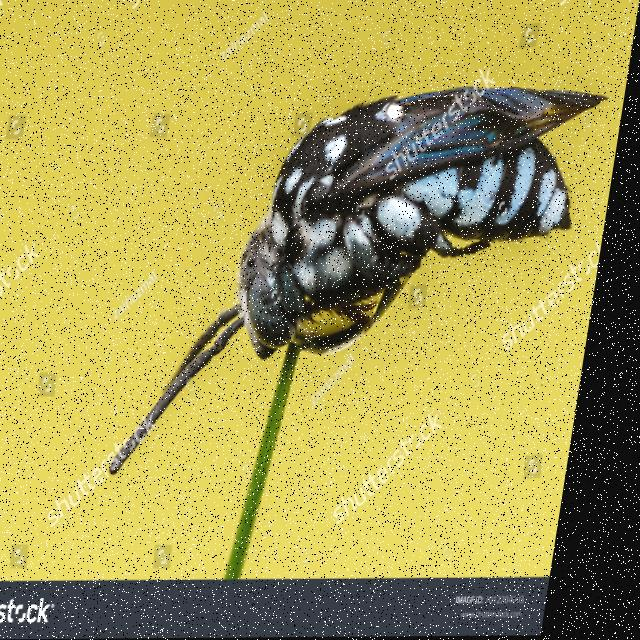Thyreus: (111, 67, 619, 497)
